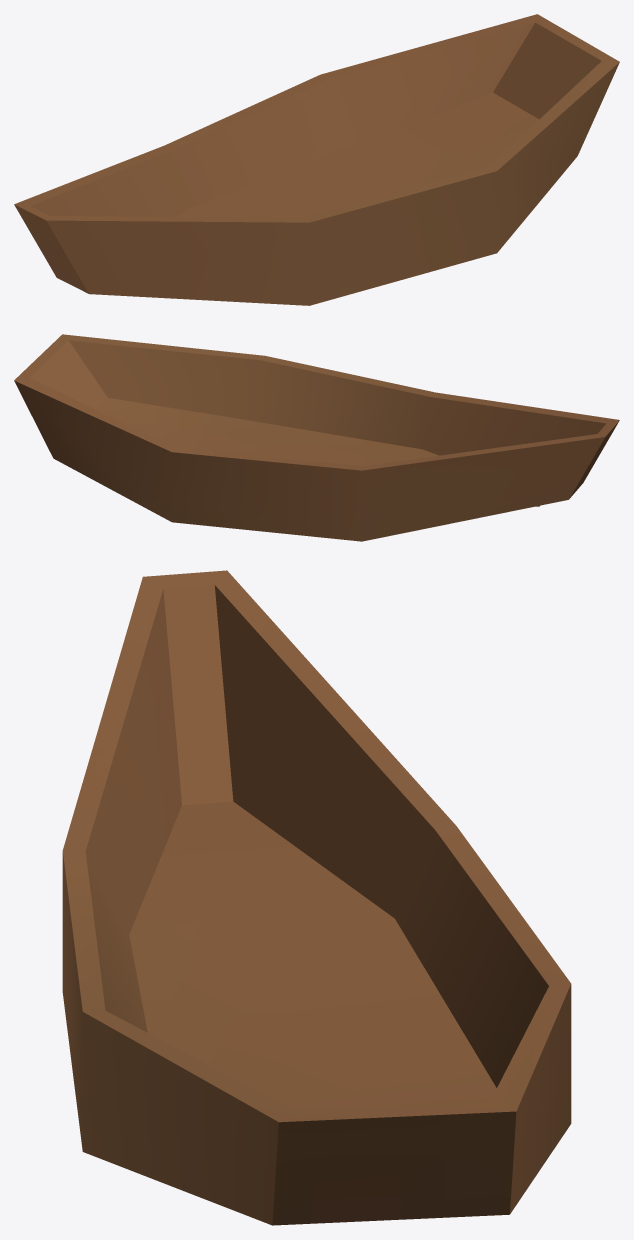
Rendered from thuyen.fbx.
The picture shows the model from 3 angles, top to bottom: view 1: azimuth 30°, elevation 25°; view 2: azimuth 150°, elevation 25°; view 3: azimuth 270°, elevation 25°; orthographic projection. The views are drawn at different scales.
Visible parts, largest first — view 1: thuyen; view 2: thuyen; view 3: thuyen.
Boxes of the visible parts, x1,y1,x2,y2 form: thuyen: (14, 14, 619, 305); thuyen: (14, 334, 619, 541); thuyen: (62, 570, 571, 1225).
Bounding box in the file's own units: 659 × 128 × 274.
1 material, 1 textured.
